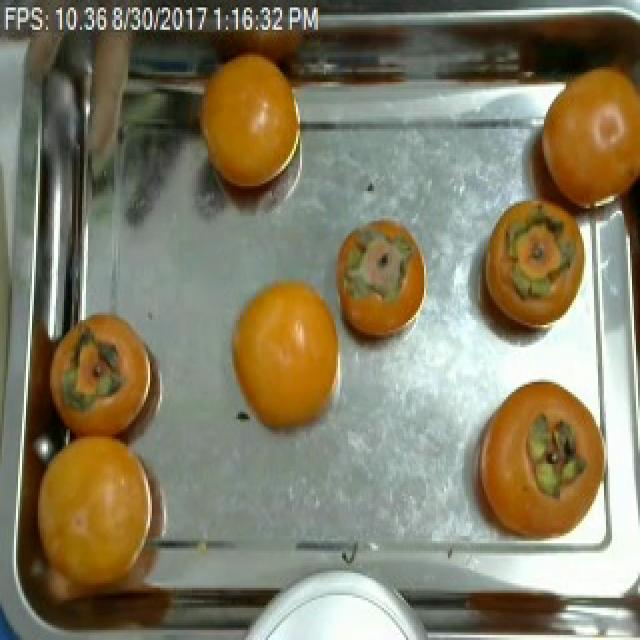Fruit: (28, 417, 194, 618), (458, 367, 604, 571), (218, 263, 346, 446), (524, 50, 640, 228), (468, 186, 588, 350), (184, 42, 306, 201), (332, 206, 440, 365)
